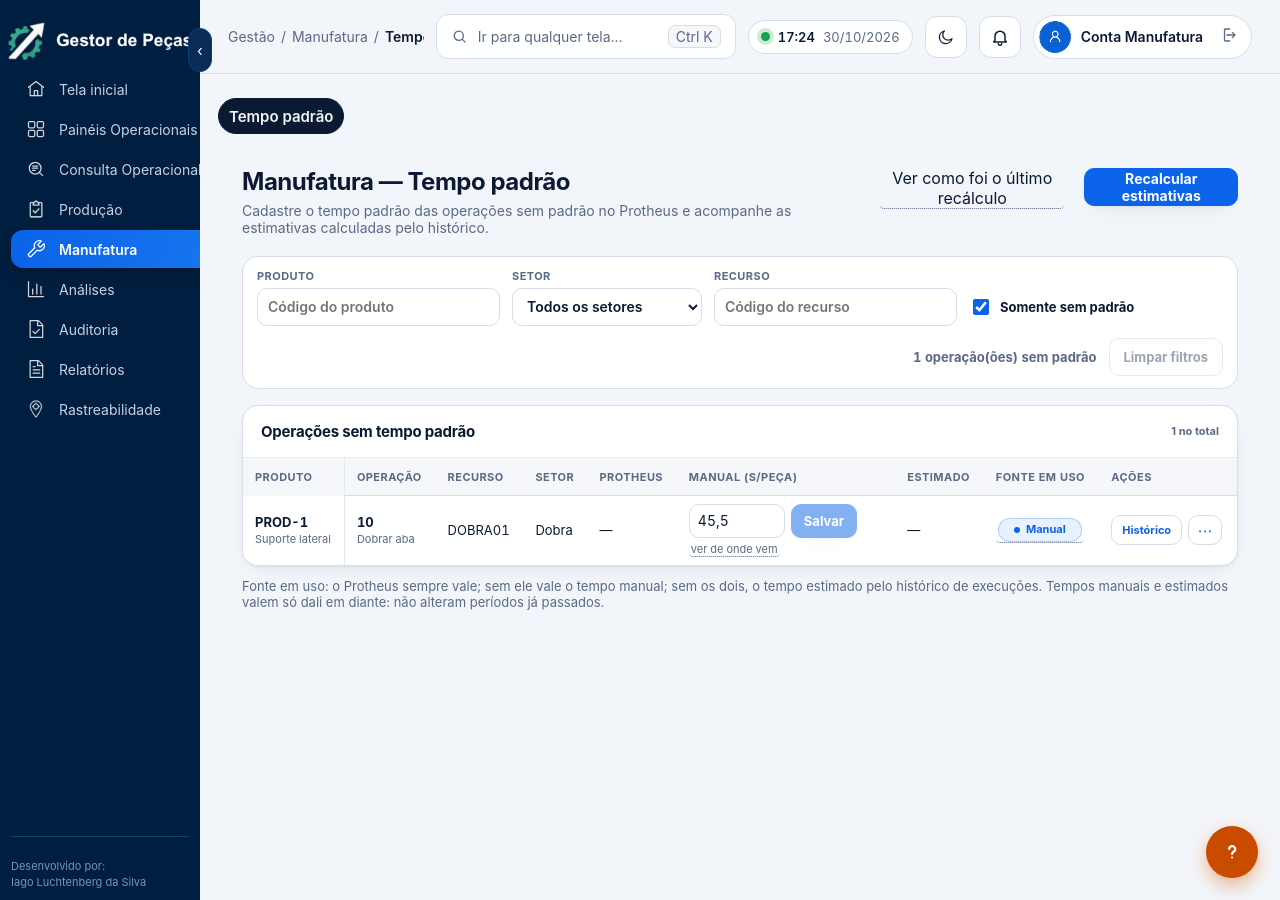
Scenario: Tempo padrão — chave mista e vigência › histórico mostra 'Vale a partir de' por entrada, com data ou data e hora
The width and height of the screenshot is (1280, 900).
Expected: the text "PROD-1" is shown, [255, 514, 308, 530]
Click the button with aria-label "Histórico:": (1147, 530) [1111, 515, 1182, 545]
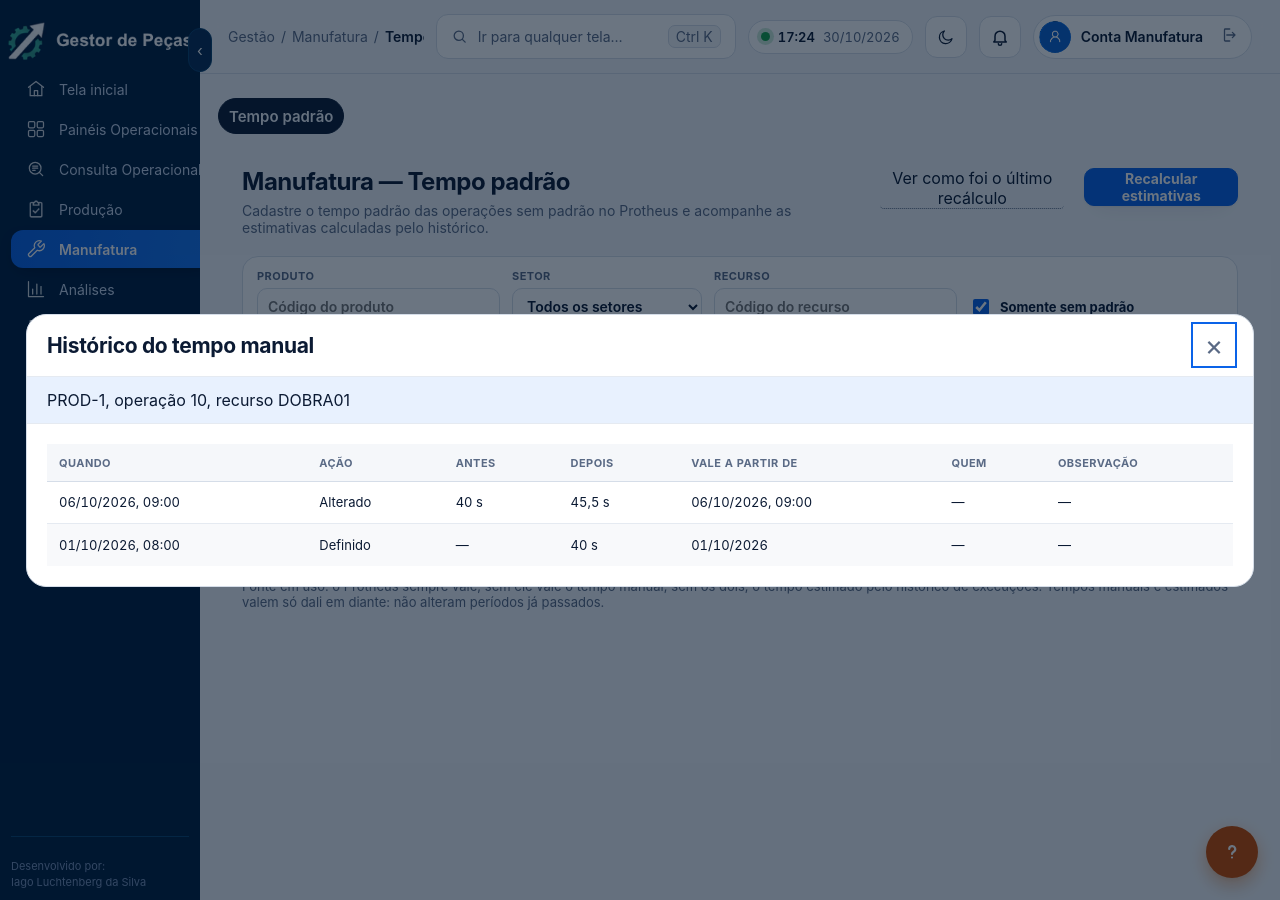
Expected: the text "Alterado" is shown, [307, 482, 444, 524]
Expected: the column heading "Vale a partir de" is shown, [679, 444, 940, 482]
Expected: the text "01/10/2026" is shown, [679, 524, 940, 566]
